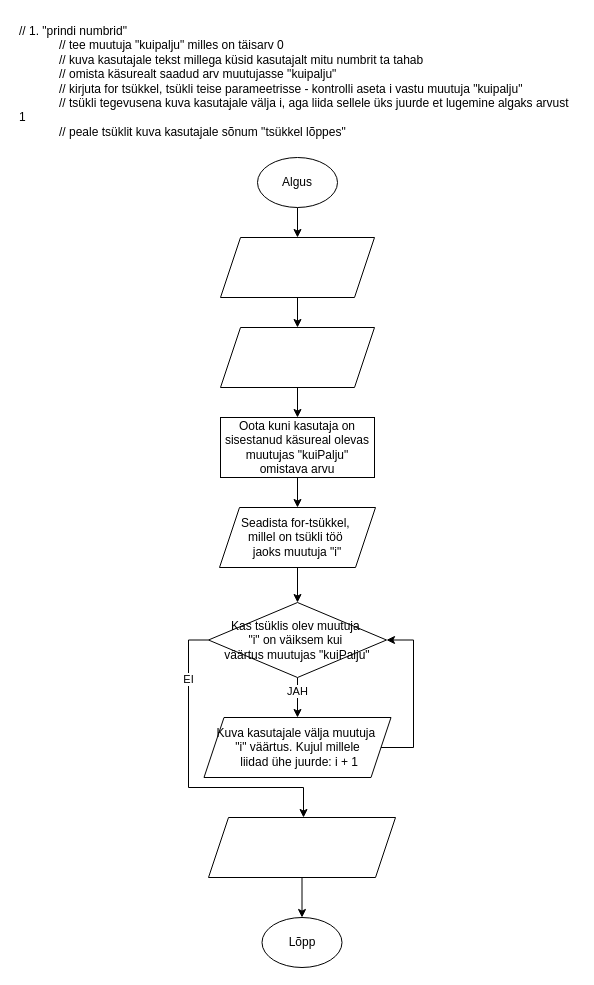
Some shapes in this 594 by 985 pixel diagram are drawn without their labels. The centre of each missing label's shape, as x and y in pixels:
Kuva kasutajale tekst "Mitu numbrit te soovite?": (x=297, y=357)
Kuva kasutajale tekst "Tsükkel lõppes": (x=302, y=847)
Tekitame muutuja "kuiPalju" millele omistad algväärtuse 0: (x=297, y=267)
